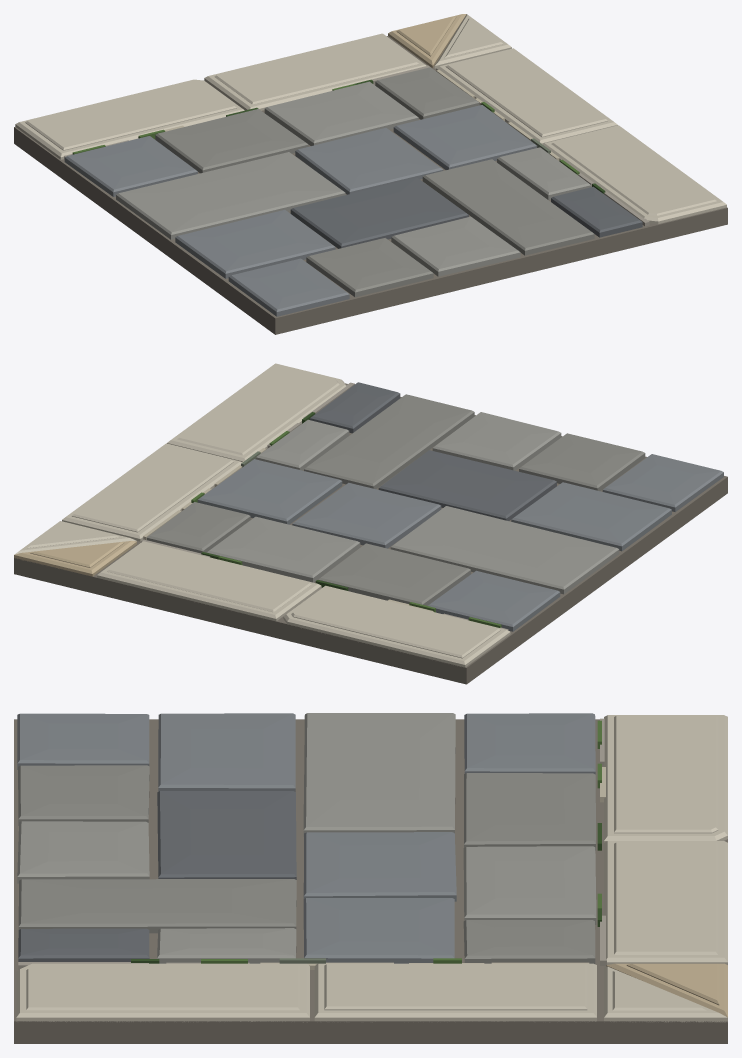
The model's file is SM_LPD_Floor_PavingBorderCourseCorner_01.fbx.
3 views of the same model, one above another, from view 1: azimuth 30°, elevation 25°; view 2: azimuth 150°, elevation 25°; view 3: azimuth 270°, elevation 25° (orthographic). The views are drawn at different scales.
Visible parts, largest first — view 1: SM_LPD_Floor_PavingBorderCourseCorner_01; view 2: SM_LPD_Floor_PavingBorderCourseCorner_01; view 3: SM_LPD_Floor_PavingBorderCourseCorner_01.
Boxes of the visible parts, box(x1,y1,x2,y2) form: SM_LPD_Floor_PavingBorderCourseCorner_01: box(14, 14, 727, 334); SM_LPD_Floor_PavingBorderCourseCorner_01: box(14, 363, 727, 684); SM_LPD_Floor_PavingBorderCourseCorner_01: box(14, 713, 727, 1043).
Bounding box in the file's own units: 4 × 0.2 × 4.
